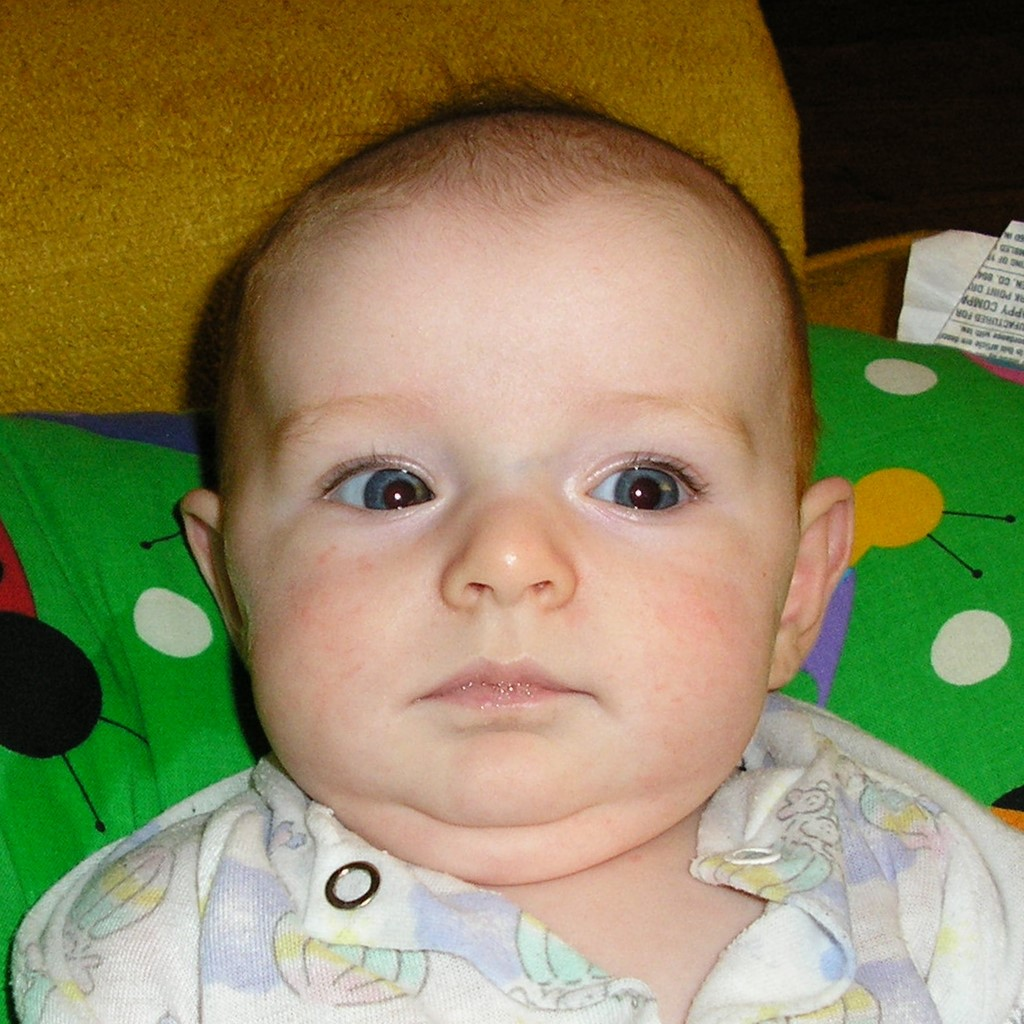sin_mascara: (243, 156, 804, 850)
